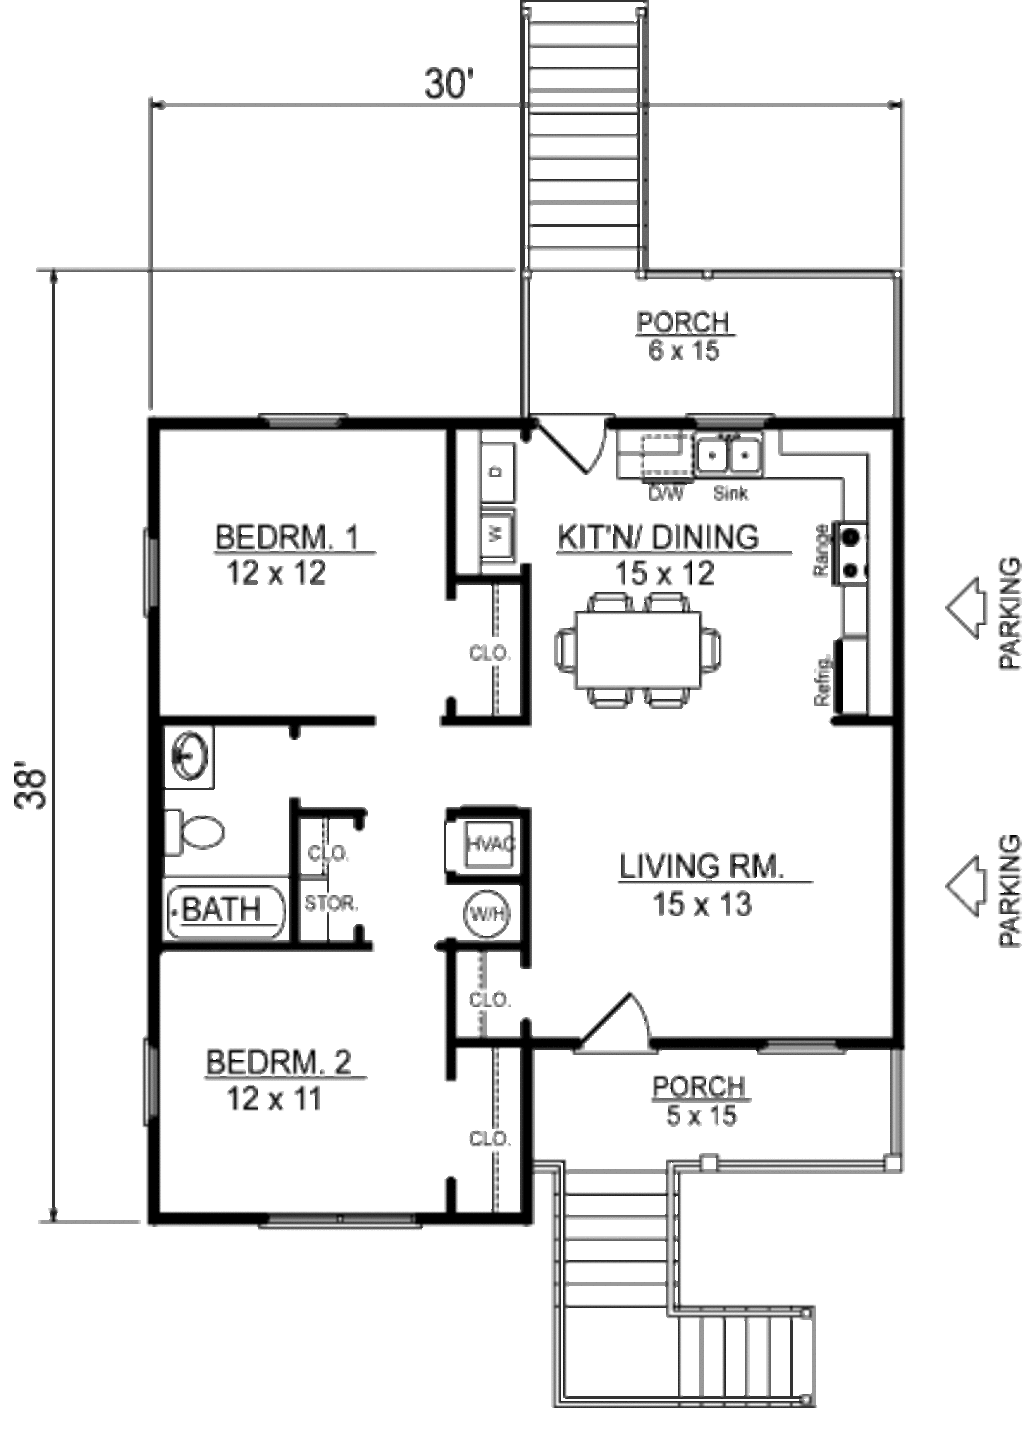dining_table: (550, 591, 723, 718)
door: (570, 995, 669, 1056), (531, 411, 612, 475)
large_sink: (156, 806, 231, 862)
small_sink: (162, 723, 212, 797)
stairs: (555, 1153, 817, 1412), (518, 1, 651, 288)
tub: (156, 880, 303, 953)
twin_sink: (692, 430, 767, 483)
windows: (246, 1205, 423, 1232), (249, 408, 369, 441), (743, 1032, 850, 1065), (139, 524, 166, 626), (137, 1042, 164, 1132)
